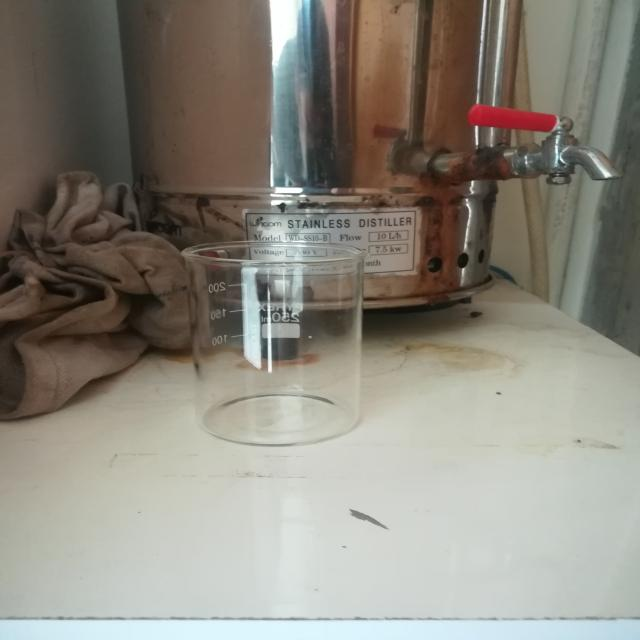Beaker: (160, 208, 404, 476)
